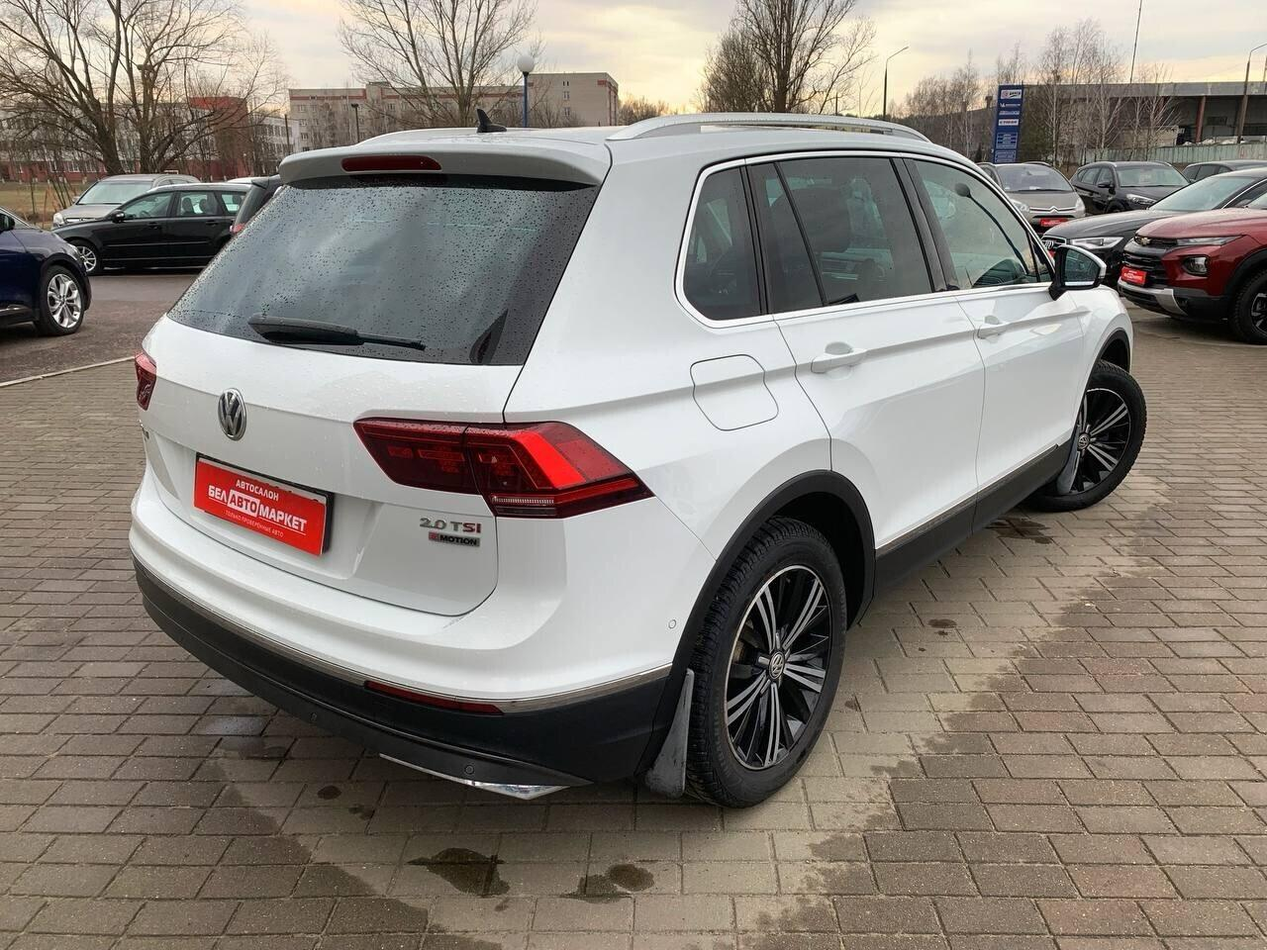Tiguan_2016-2021: (120, 115, 1166, 826)
